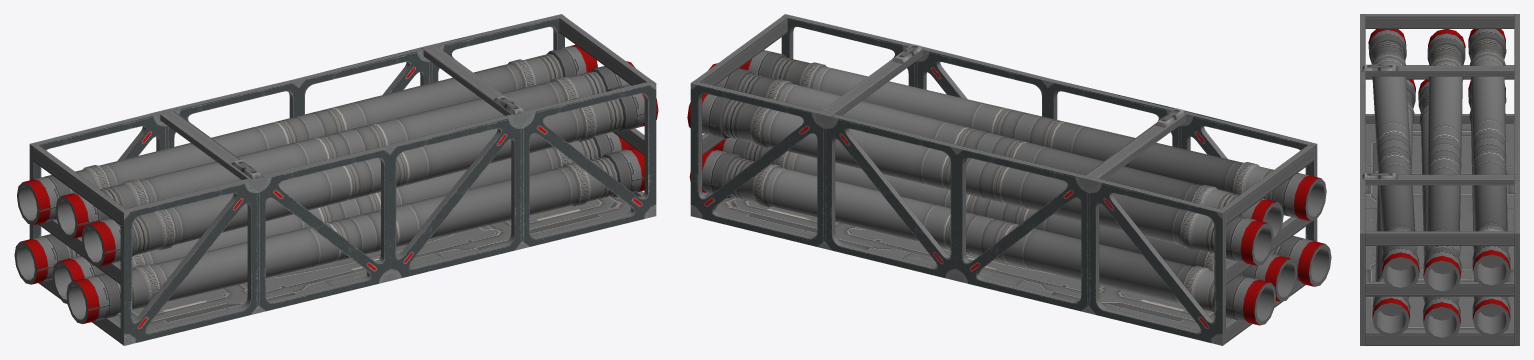
File: support-conduit.glb
3 views of the same model, side by side, from view 1: azimuth 30°, elevation 25°; view 2: azimuth 150°, elevation 25°; view 3: azimuth 270°, elevation 25° (orthographic). The views are drawn at different scales.
Parts seen in each view (by area): view 1: Prop_PipeHolder; view 2: Prop_PipeHolder; view 3: Prop_PipeHolder.
Part boxes in pixels (x1,y1,x2,y2): Prop_PipeHolder: [14, 14, 658, 345]; Prop_PipeHolder: [687, 14, 1331, 345]; Prop_PipeHolder: [1360, 14, 1519, 345].
Size of the model in its own units: 4.12 by 0.9275 by 1.16.
Materials: 3 (3 with a texture image).
